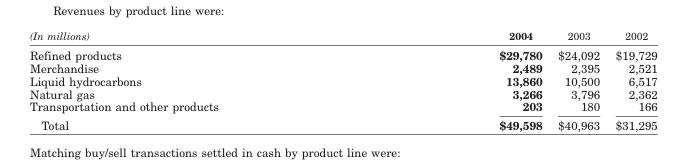table: (28, 29, 656, 131)
table column: (28, 29, 358, 131), (358, 29, 549, 131), (549, 29, 607, 131), (607, 29, 656, 131)
table column header: (28, 29, 656, 44)
table row: (28, 44, 656, 60), (28, 99, 656, 115), (28, 115, 656, 131), (28, 29, 656, 44), (28, 60, 656, 73), (28, 73, 656, 86), (28, 86, 656, 99)
